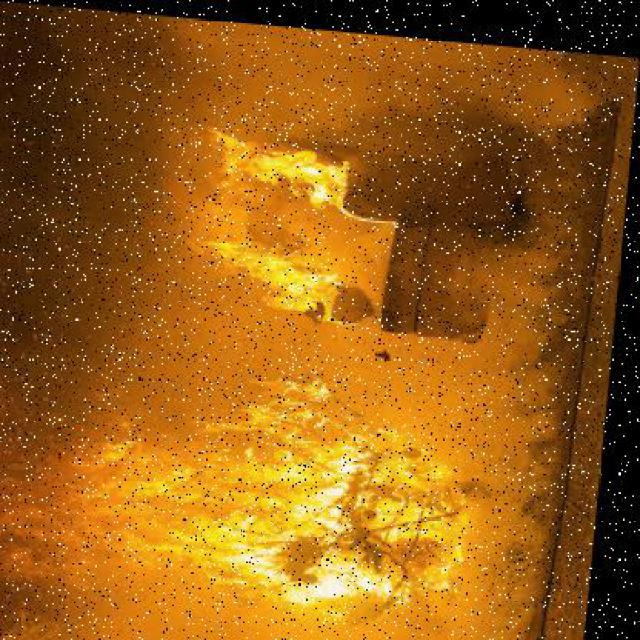fire: (50, 337, 492, 640)
